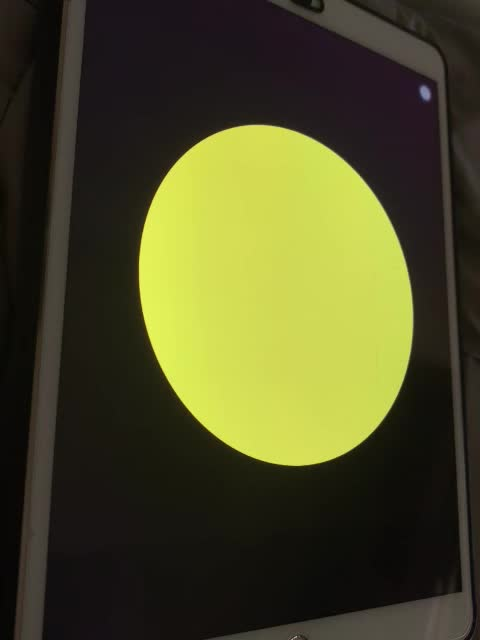left: (134, 115, 420, 474)
